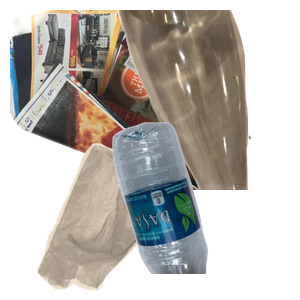glass: (115, 10, 300, 190)
paper: (10, 10, 250, 190)
plastic: (110, 120, 300, 300)
trash: (35, 140, 203, 300)
